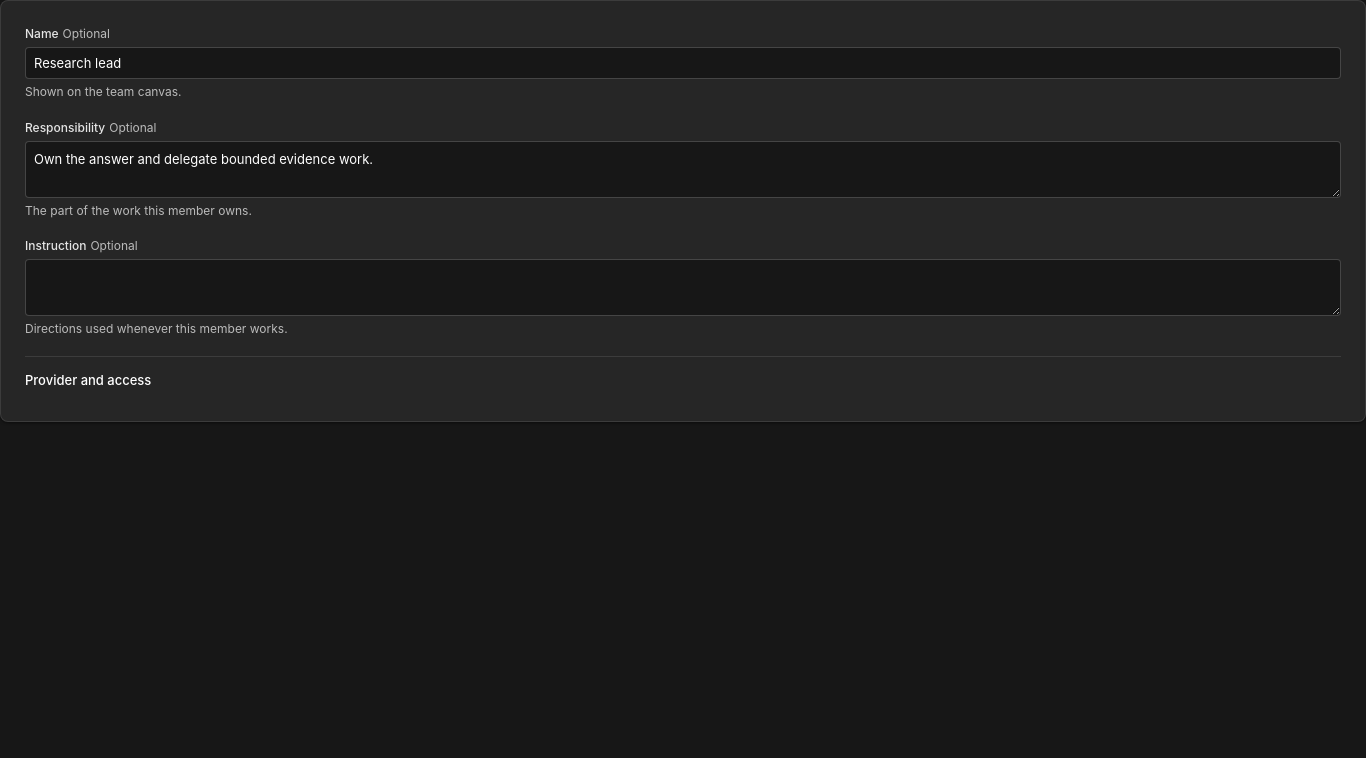
Test: Workflow authoring forms › explains the managed-provider sandbox default accurately
Click the heading "Provider and access". click: [88, 380]
box: [25,372,151,388]
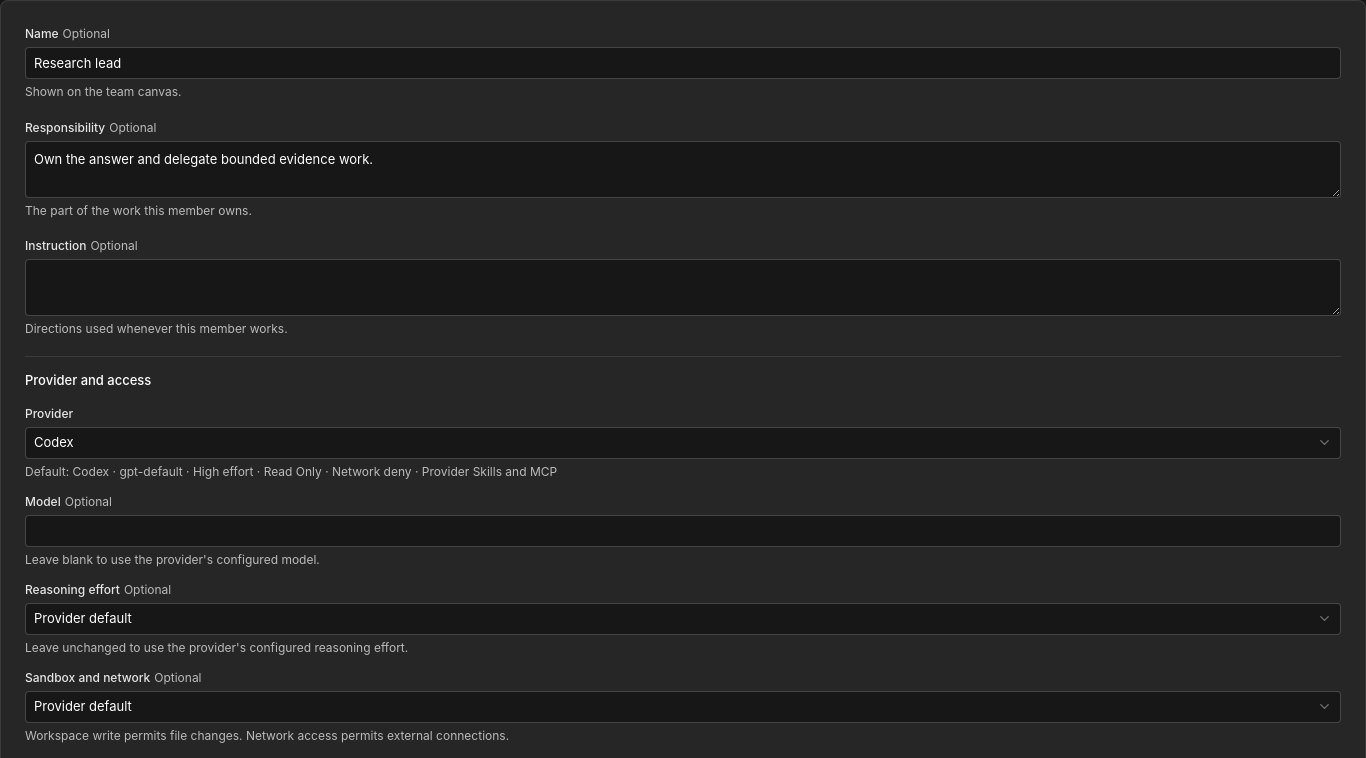
Check: the dropdown named "Sandbox and network" reads "Provider default", box [25,691,1341,723]
Check: the text "Default: Codex · gpt-default · High effort · Read Only · Network deny · Provider Skills and MCP" is shown, box [25,464,557,479]
